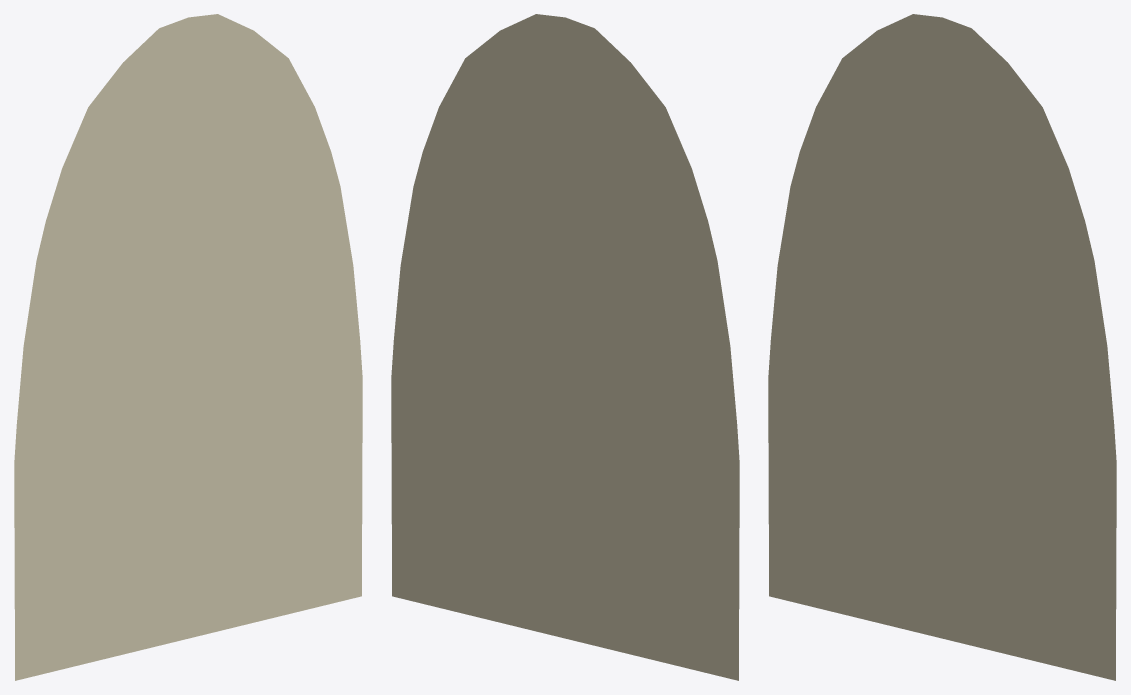
The model's file is Geo_Door_Emission_Plane.fbx.
3 renders of one model, left to right at view 1: azimuth 30°, elevation 25°; view 2: azimuth 150°, elevation 25°; view 3: azimuth 330°, elevation 25°, orthographic.
Parts seen in each view (by area): view 1: Geo_Door_Emission_Plane; view 2: Geo_Door_Emission_Plane; view 3: Geo_Door_Emission_Plane.
Boxes of the visible parts, left/top/right/bottom form: Geo_Door_Emission_Plane: left=14, top=14, right=362, bottom=680; Geo_Door_Emission_Plane: left=391, top=14, right=739, bottom=680; Geo_Door_Emission_Plane: left=768, top=14, right=1116, bottom=680.
Bounding box in the file's own units: 102 × 173 × 4.77e-07.
